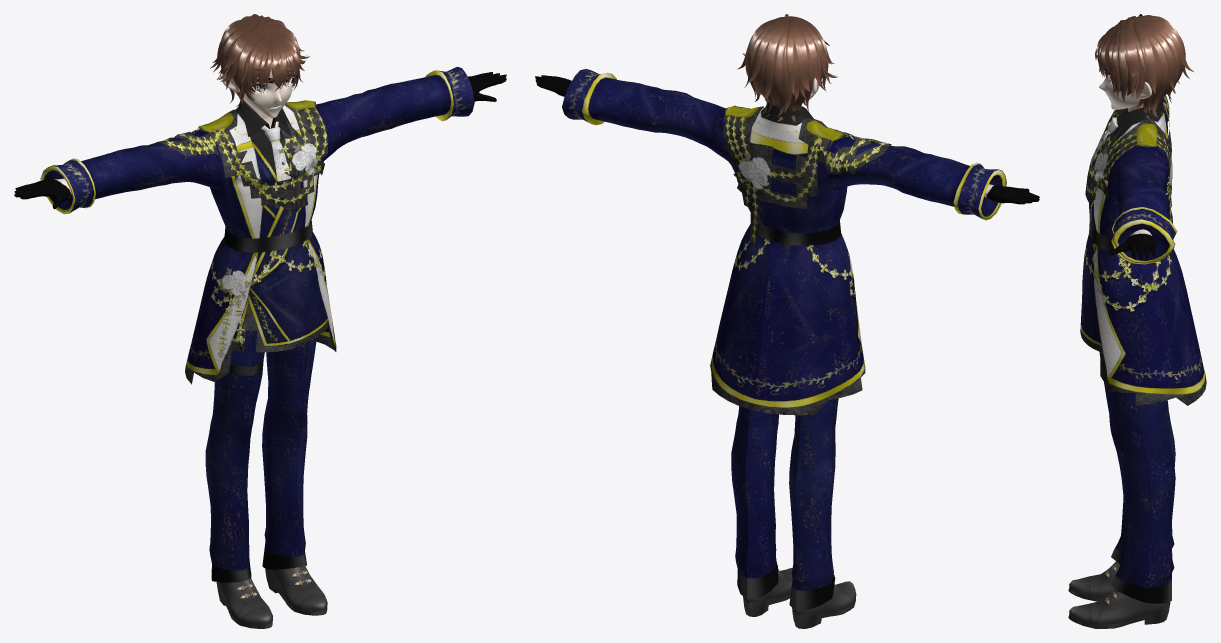
File: Klevin.fbx
3 renders of one model, left to right at view 1: azimuth 30°, elevation 25°; view 2: azimuth 150°, elevation 25°; view 3: azimuth 270°, elevation 25°, orthographic. The views are drawn at different scales.
Parts seen in each view (by area): view 1: Body, Hair, Face; view 2: Body, Hair; view 3: Body, Hair, Face.
Part boxes in pixels (left/top/right/bottom): Body: left=14, top=66, right=506, bottom=628; Hair: left=210, top=14, right=309, bottom=106; Face: left=222, top=68, right=297, bottom=118; Body: left=535, top=59, right=1039, bottom=628; Hair: left=737, top=14, right=837, bottom=121; Body: left=1068, top=14, right=1206, bottom=628; Hair: left=1095, top=15, right=1194, bottom=119; Face: left=1099, top=70, right=1151, bottom=109.
Size of the model in its own units: 165 by 185 by 39.37.
Materials: 16 (16 with a texture image).
